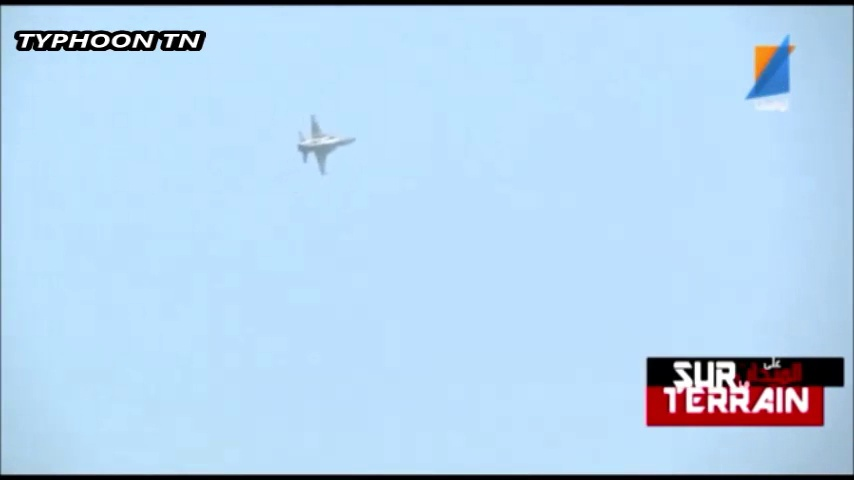Airplane: (295, 115, 359, 175)
